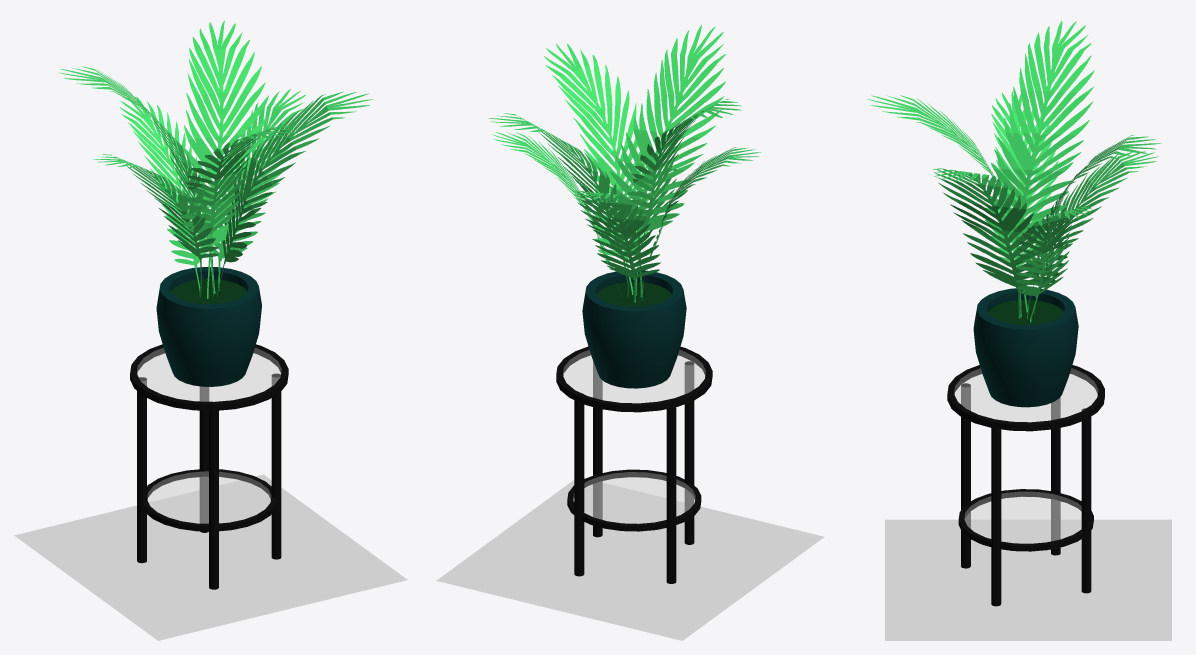
Rendered from Plant and pot03.fbx.
3 views of the same model, side by side, from view 1: azimuth 30°, elevation 25°; view 2: azimuth 150°, elevation 25°; view 3: azimuth 270°, elevation 25° (orthographic).
Parts seen in each view (by area): view 1: Plane.007, Cylinder.006, Plane.003, Plane.001, Cylinder.007, Cylinder.009, Plane, Plane.005, Plane.006, Plane.004, Cylinder.008, Cylinder.005 (+5 smaller); view 2: Plane.007, Cylinder.006, Plane, Plane.001, Cylinder.007, Plane.005, Cylinder.009, Plane.002, Plane.003, Cylinder.008, Cylinder.005, Cylinder.002 (+5 smaller); view 3: Plane.007, Cylinder.006, Plane.002, Plane.001, Cylinder.007, Cylinder.009, Plane.004, Plane.005, Cylinder.008, Plane.006, Cylinder.005, Cylinder.003 (+5 smaller).
Boxes of the visible parts, box(x1,y1,x2,y2) form: Plane.007: box(14, 474, 407, 640); Cylinder.006: box(156, 267, 261, 386); Plane.003: box(174, 20, 267, 293); Plane.001: box(217, 91, 372, 296); Cylinder.007: box(147, 471, 270, 523); Cylinder.009: box(137, 348, 281, 401); Plane: box(180, 124, 297, 298); Plane.005: box(120, 96, 209, 292); Plane.006: box(93, 154, 218, 297); Plane.004: box(206, 88, 305, 290); Cylinder.008: box(130, 344, 288, 410); Cylinder.005: box(142, 469, 276, 531); Plane.007: box(436, 478, 824, 640); Cylinder.006: box(582, 270, 686, 388); Plane: box(610, 24, 725, 297); Plane.001: box(544, 43, 652, 294); Cylinder.007: box(573, 472, 695, 523); Plane.005: box(574, 191, 660, 302); Cylinder.009: box(563, 350, 705, 403); Plane.002: box(626, 99, 741, 295); Plane.003: box(488, 113, 640, 297); Cylinder.008: box(556, 346, 712, 412); Cylinder.005: box(567, 469, 701, 531); Cylinder.002: box(666, 407, 676, 583); Plane.007: box(885, 519, 1171, 640); Cylinder.006: box(973, 288, 1078, 407); Plane.002: box(985, 21, 1094, 316); Plane.001: box(932, 168, 1051, 318); Cylinder.007: box(964, 492, 1081, 543); Cylinder.009: box(954, 368, 1097, 422); Plane.004: box(1015, 205, 1092, 322); Plane.005: box(1034, 151, 1158, 313); Cylinder.008: box(947, 365, 1104, 431); Plane.006: box(989, 91, 1058, 312); Cylinder.005: box(958, 489, 1093, 551); Cylinder.003: box(991, 428, 1001, 606).
Bounding box in the file's own units: 361 × 616 × 369.
